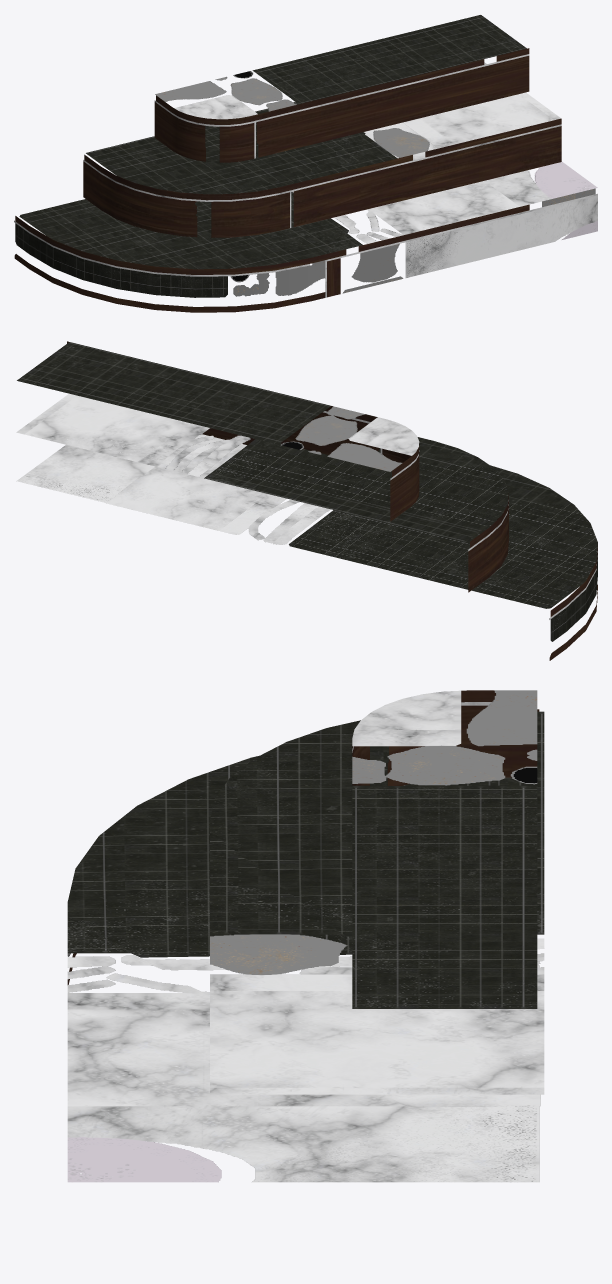
File: step.fbx
3 views of the same model, one above another, from view 1: azimuth 30°, elevation 25°; view 2: azimuth 150°, elevation 25°; view 3: azimuth 270°, elevation 25° (orthographic). The views are drawn at different scales.
Visible parts, largest first — view 1: step; view 2: step; view 3: step.
Part boxes in pixels (x1,y1,x2,y2): step: (14,15,597,312); step: (16,341,597,660); step: (67,690,544,1182).
Size of the model in its own units: 168 by 44.88 by 74.3.
